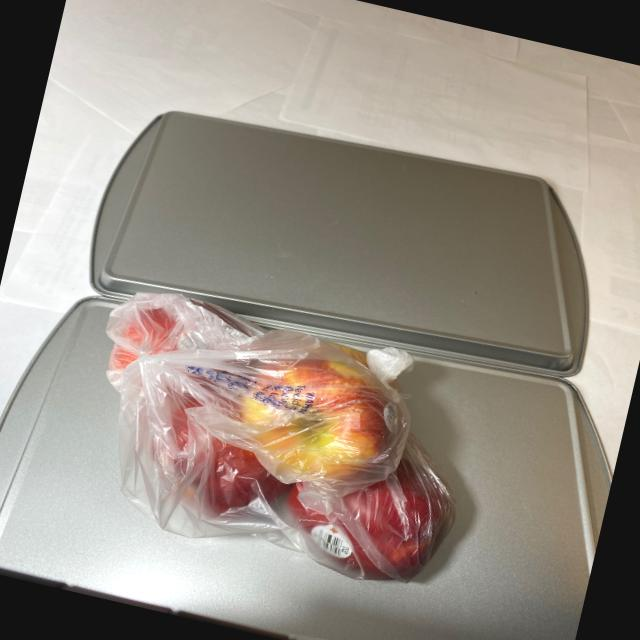apple: (61, 276, 494, 598)
